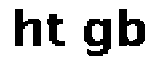b: (117, 6, 149, 53)
g: (81, 14, 112, 58)
h: (8, 5, 44, 52)
t: (46, 11, 69, 48)
